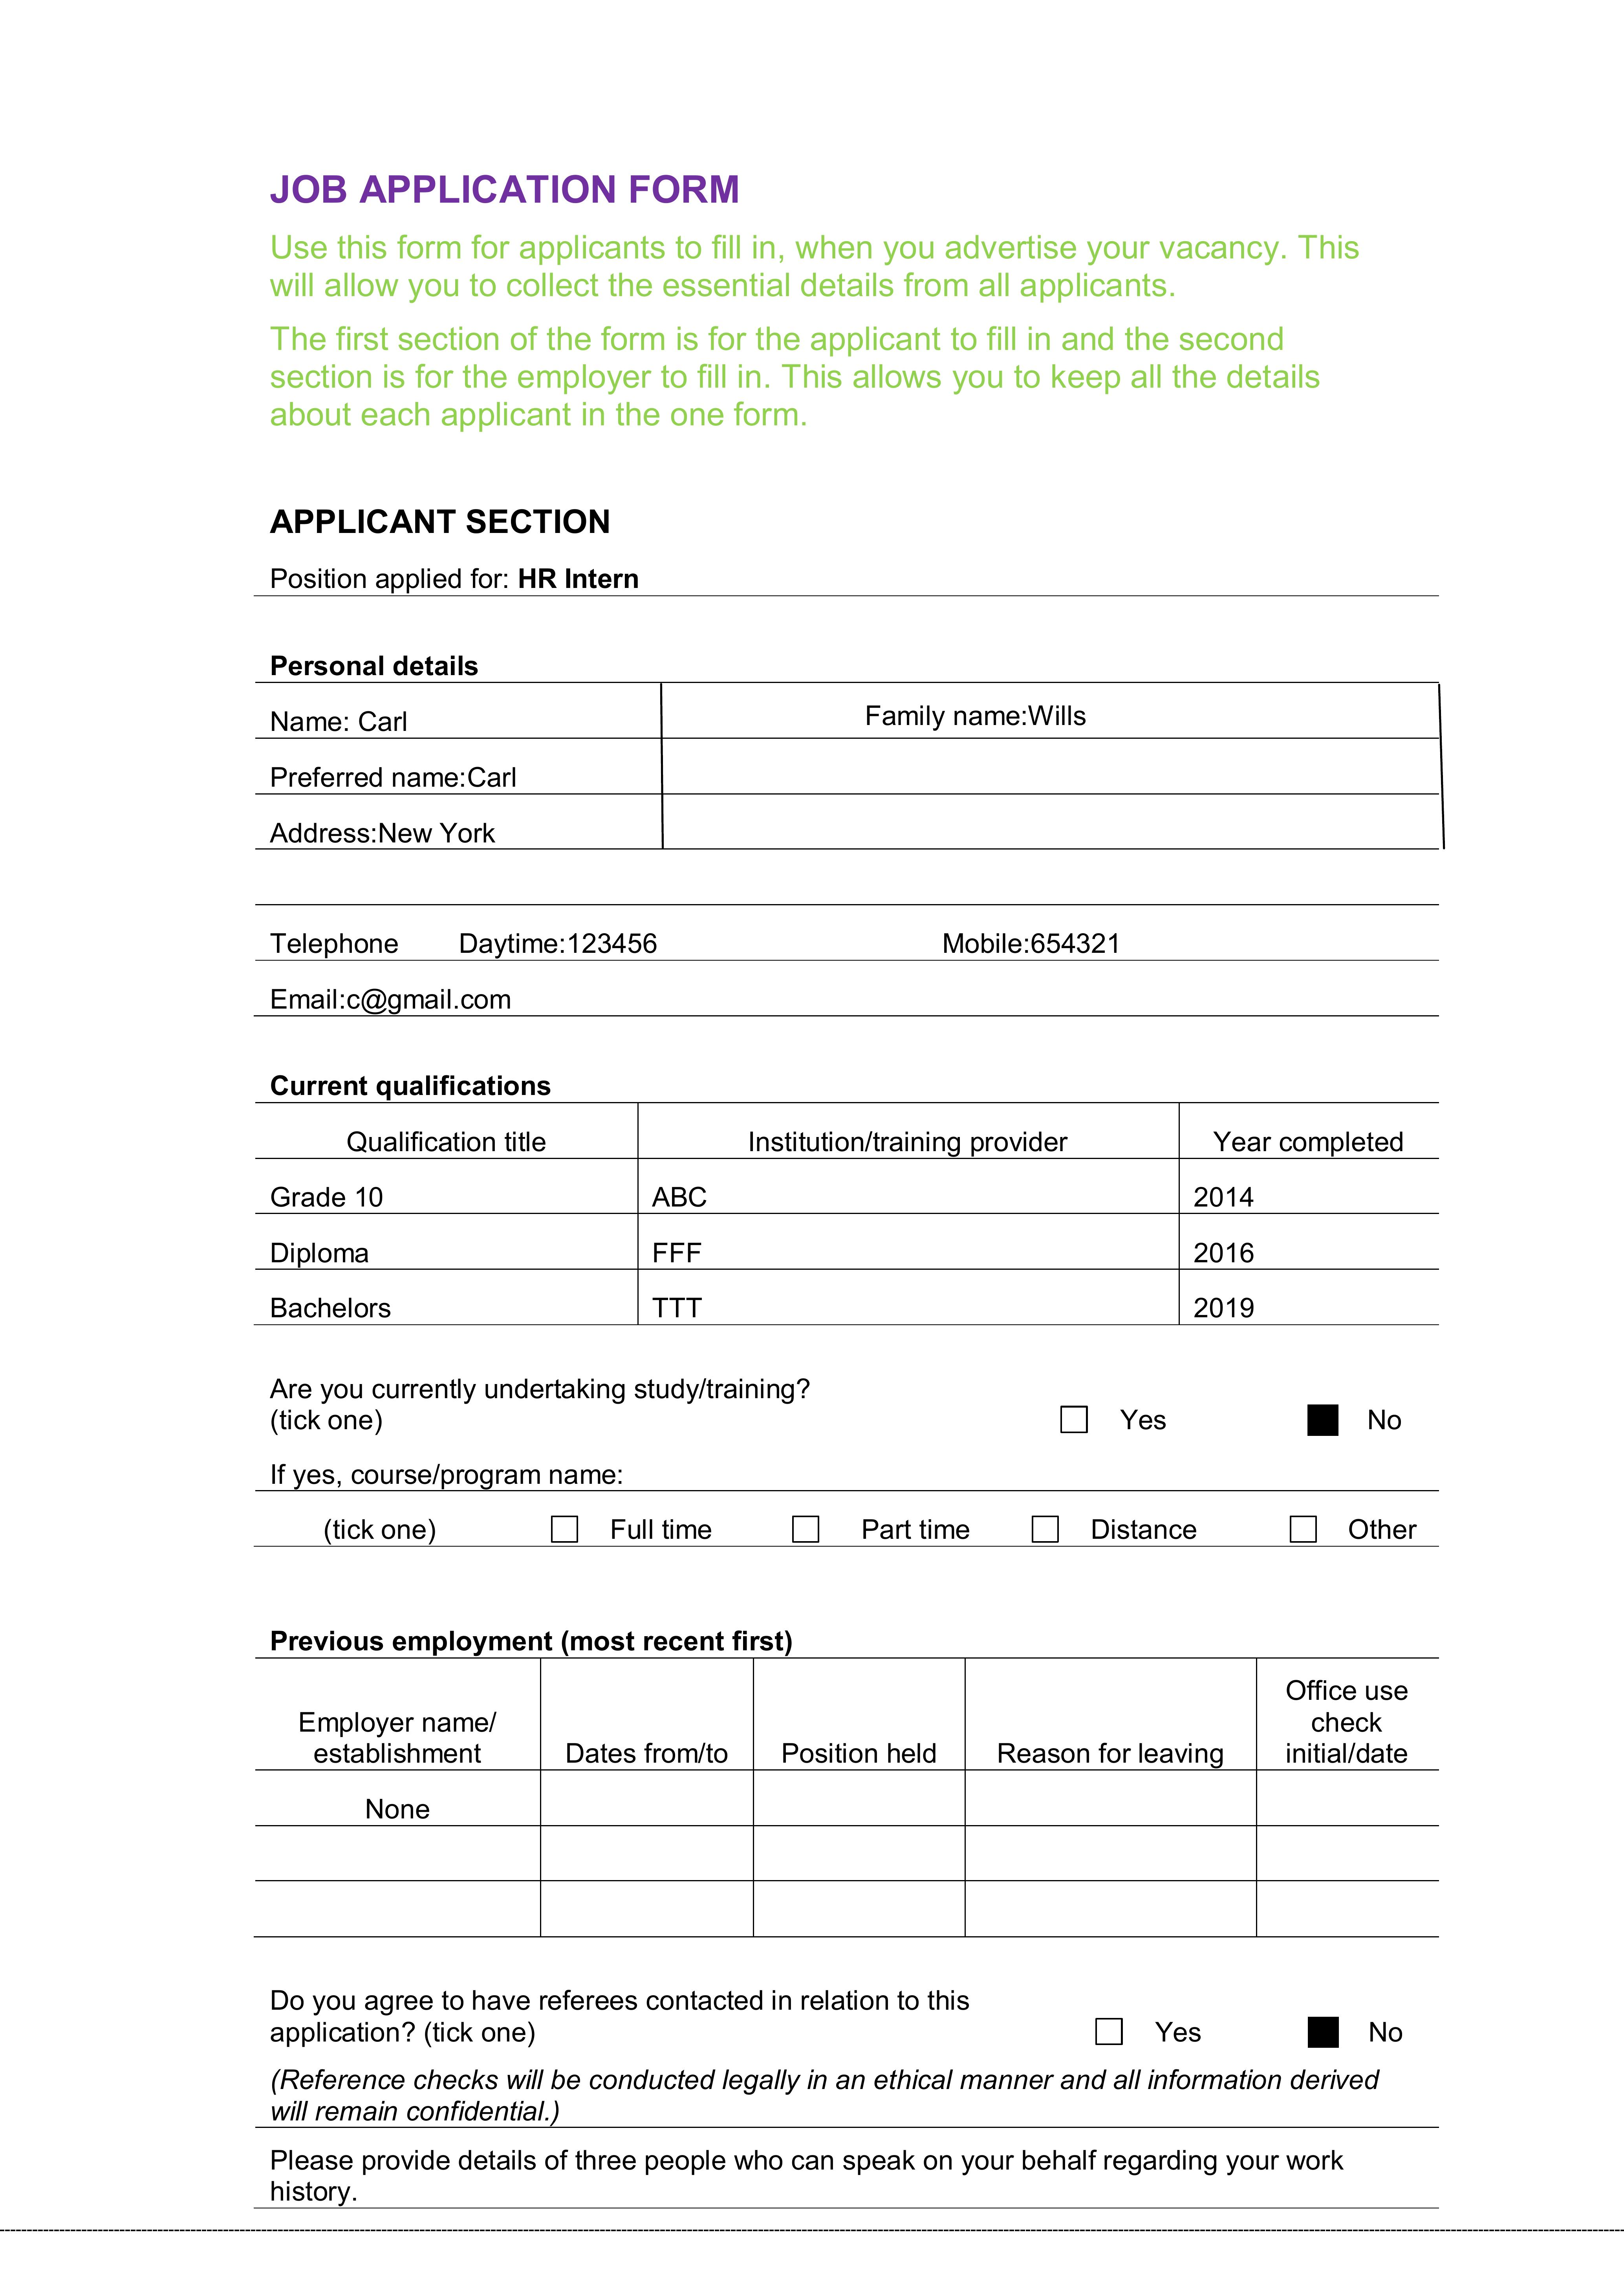table: (258, 1653, 1436, 1941), (260, 1107, 1441, 1347), (258, 682, 1441, 880)
